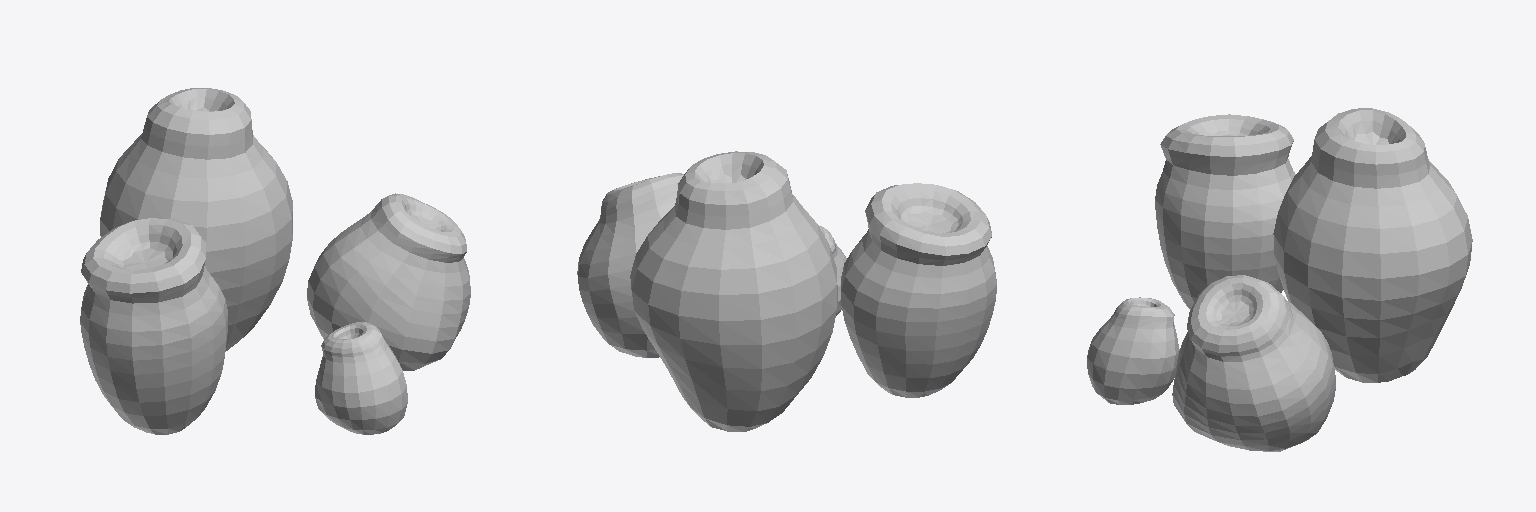
Rendered from Sponge_B_03_LOD0.obj.
The picture shows the model from 3 angles: view 1: azimuth 30°, elevation 25°; view 2: azimuth 150°, elevation 25°; view 3: azimuth 270°, elevation 25°; orthographic projection.
Parts seen in each view (by area): view 1: Sponge_B_03_LOD0_Cylinder.331; view 2: Sponge_B_03_LOD0_Cylinder.331; view 3: Sponge_B_03_LOD0_Cylinder.331.
Boxes of the visible parts, x1=… form: Sponge_B_03_LOD0_Cylinder.331: x1=80, y1=88, x2=470, y2=434; Sponge_B_03_LOD0_Cylinder.331: x1=577, y1=151, x2=996, y2=431; Sponge_B_03_LOD0_Cylinder.331: x1=1087, y1=108, x2=1472, y2=451.
Bounding box in the file's own units: 5.52 × 3.5 × 4.77.